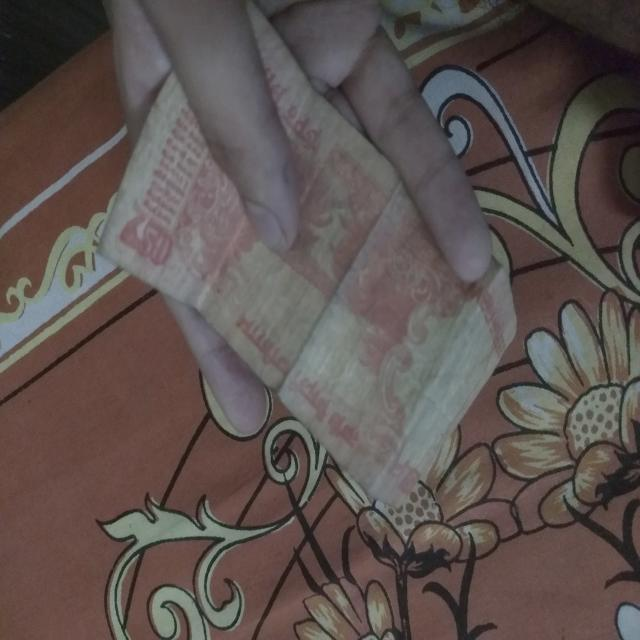20rs: (91, 10, 522, 499)
